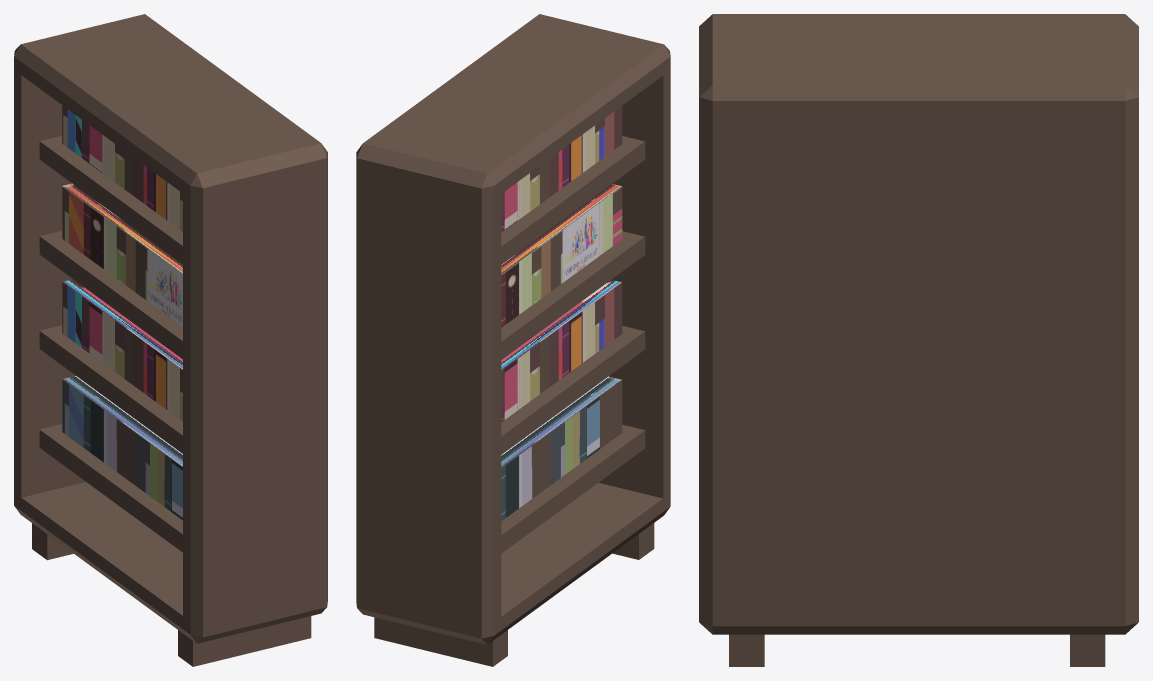
Rendered from Sala_Librero_04.fbx.
3 renders of one model, left to right at view 1: azimuth 30°, elevation 25°; view 2: azimuth 150°, elevation 25°; view 3: azimuth 270°, elevation 25°, orthographic. The views are drawn at different scales.
Visible parts, largest first — view 1: librero; view 2: librero; view 3: librero.
Part boxes in pixels (bbox=[...]): librero: bbox=[14, 14, 327, 666]; librero: bbox=[356, 14, 670, 666]; librero: bbox=[699, 14, 1138, 666].
Bounding box in the file's own units: 29.27 × 102 × 69.41.
4 materials, 4 textured.
